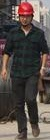boots: (14, 130, 27, 140), (30, 124, 39, 137)
gloves: (46, 80, 50, 97)
hard-hat: (17, 1, 34, 15)
